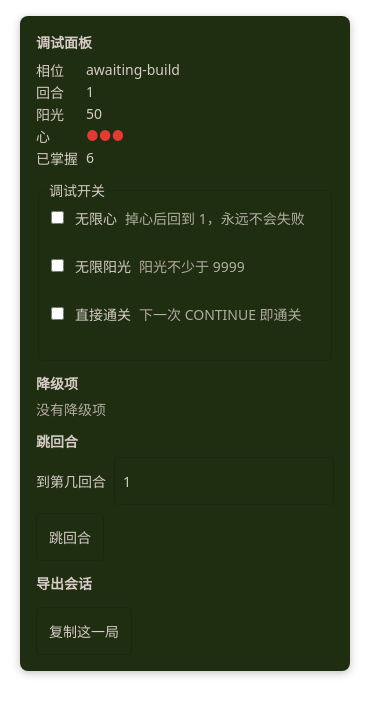
Test case: [CR 2026-10-17] 面板上的「导出会话」（裁决 3 / AR39） › 点一下 ⇒ 剪贴板里是**可 `JSON.parse` 的 `{ initialState, actions[] }`**
The width and height of the screenshot is (366, 720).
Click the button "复制这一局": (84, 631) [36, 607, 132, 655]
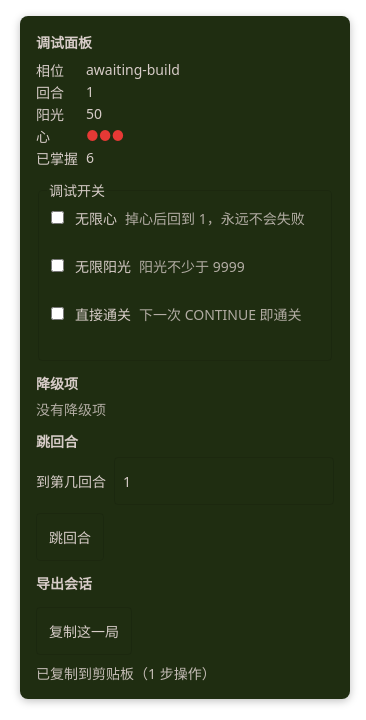
expect the text "已复制到剪贴板" is shown: met, box [36, 664, 216, 683]
